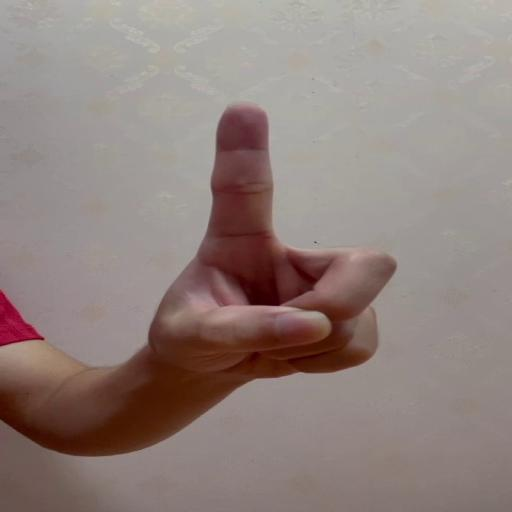point: (186, 99, 400, 380)
